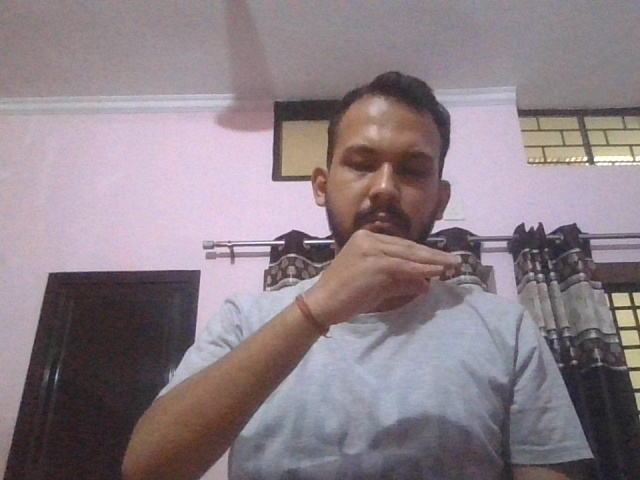no: (306, 229, 463, 324)
